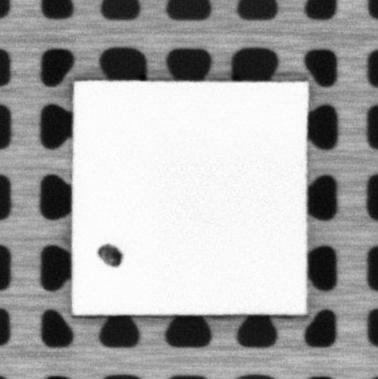DIE_INK: (94, 242, 125, 268)
